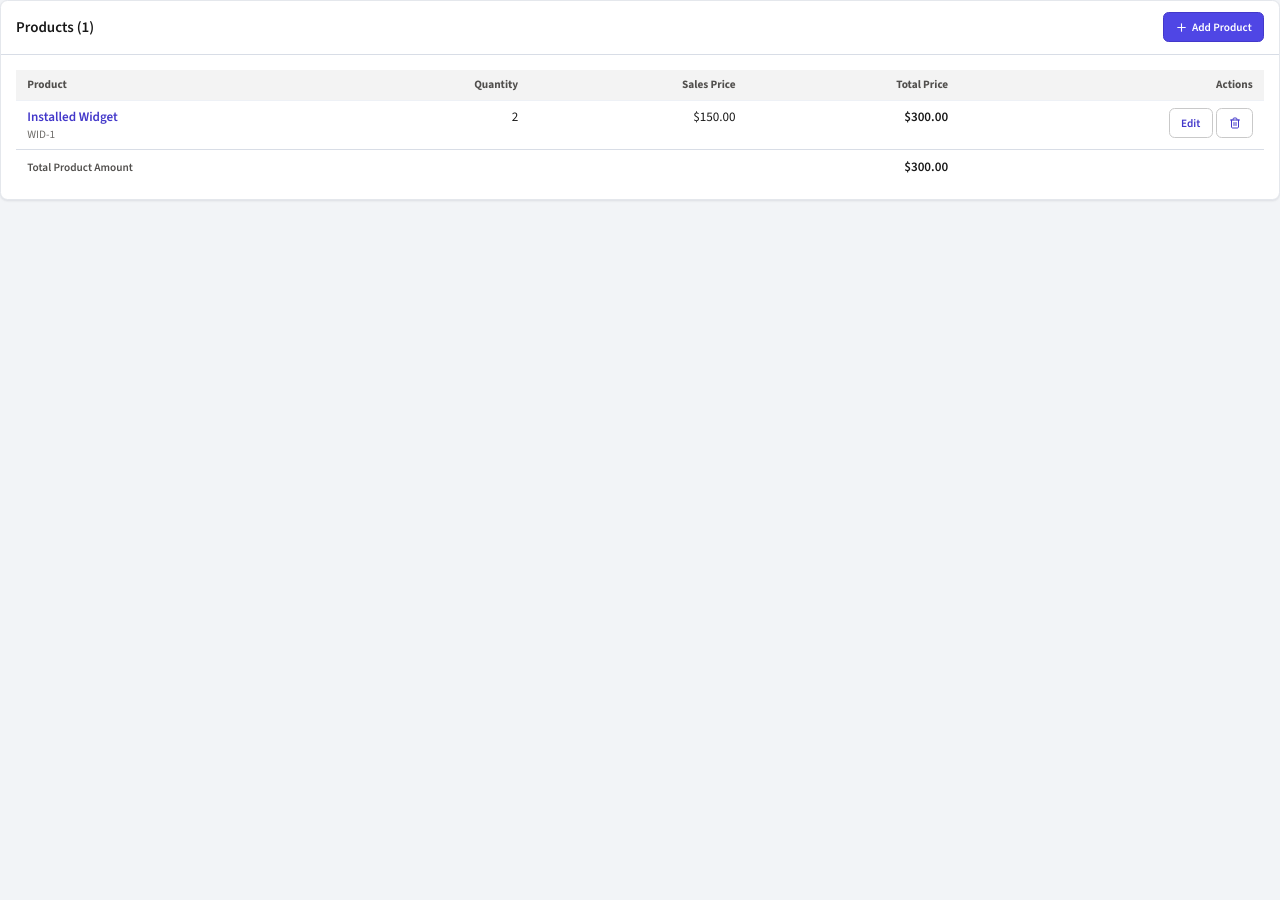
Product lines card › surfaces a server rejection without clearing the dialog
Click the button "Add Product".
click(1214, 27)  # box 1163,12 -> 1264,42
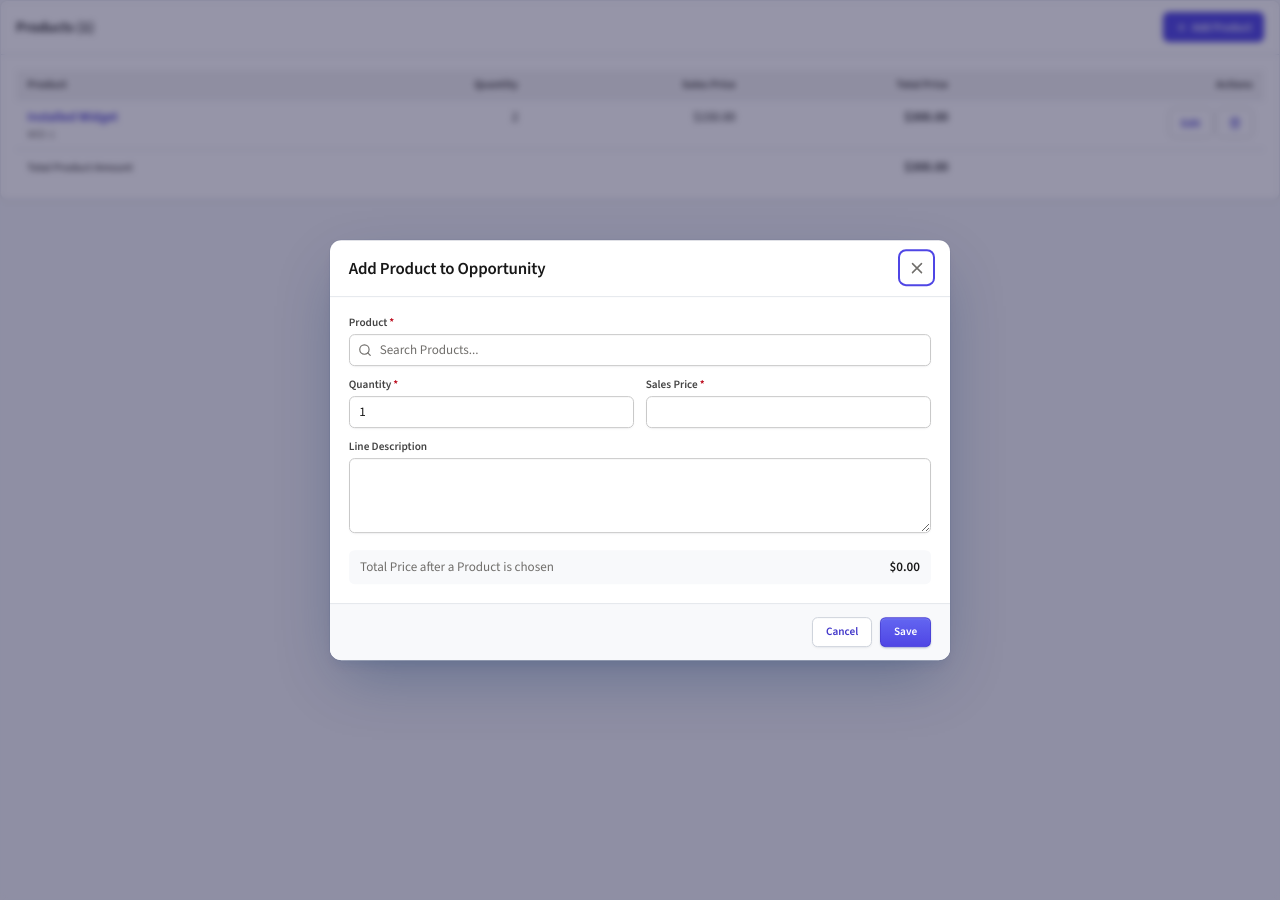
Click the dropdown labelled "Product*".
click(640, 350)  # box 349,334 -> 931,366
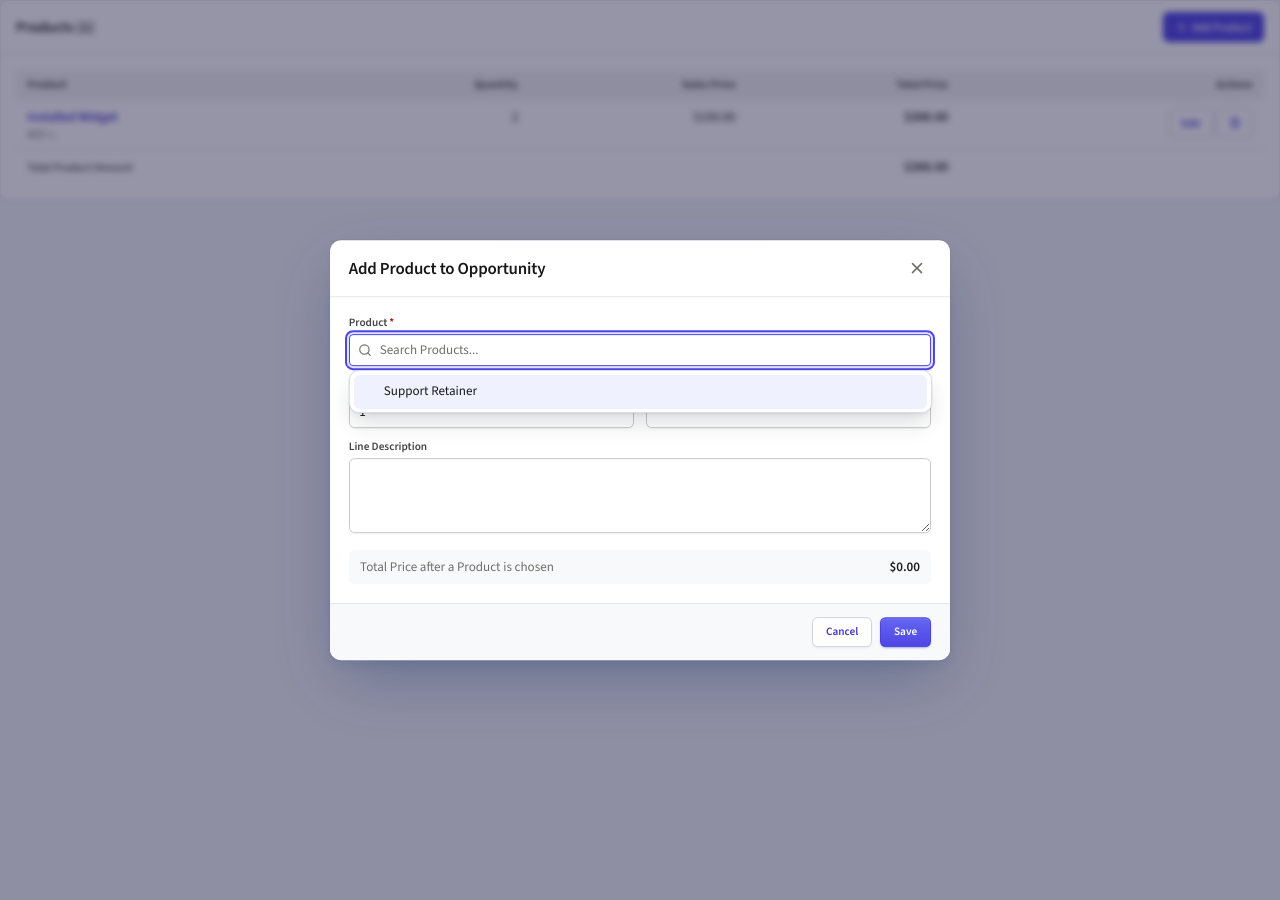
Click the option "Support Retainer".
click(430, 391)  # box 354,375 -> 927,409
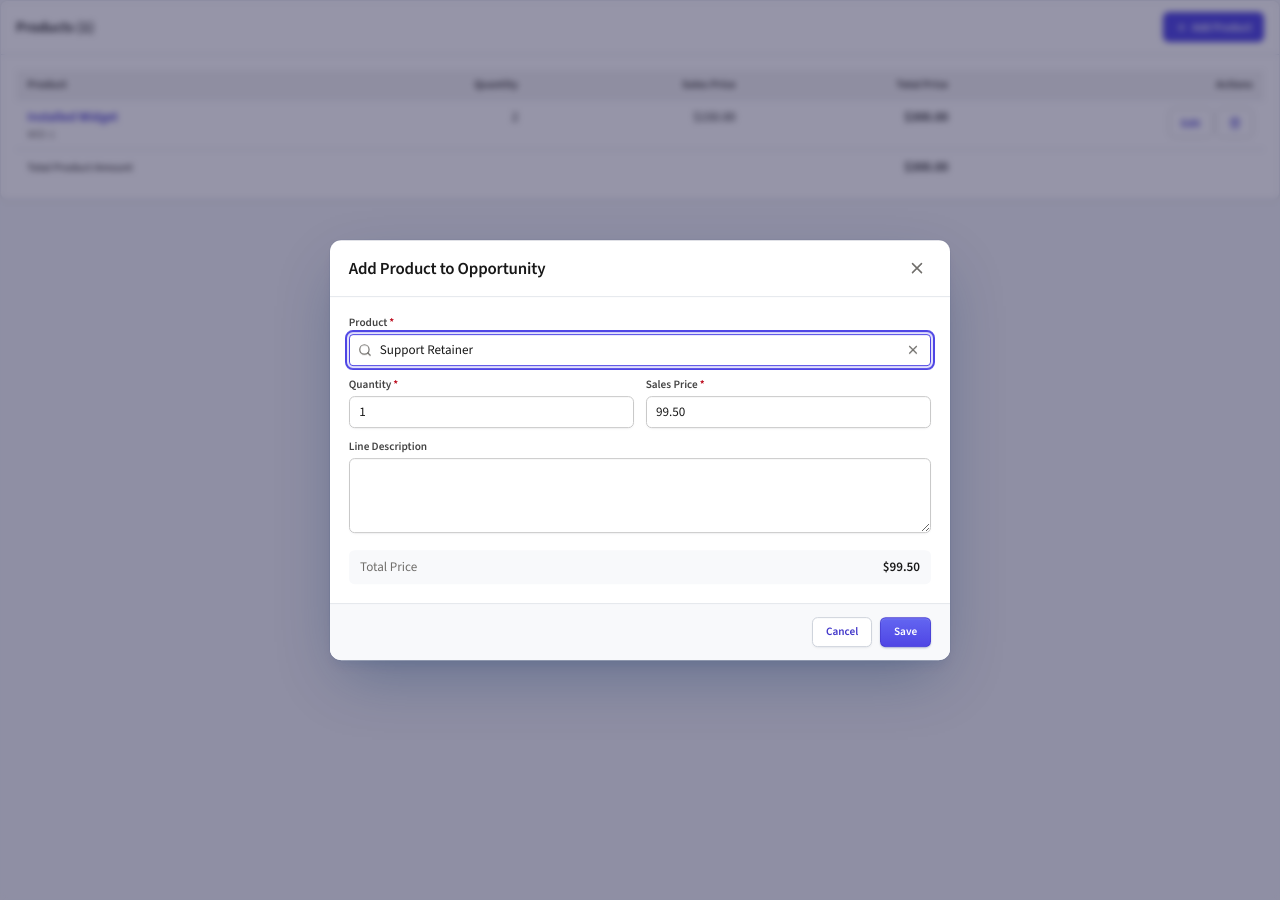
Click the button "Save".
click(906, 632)  # box 880,617 -> 931,647
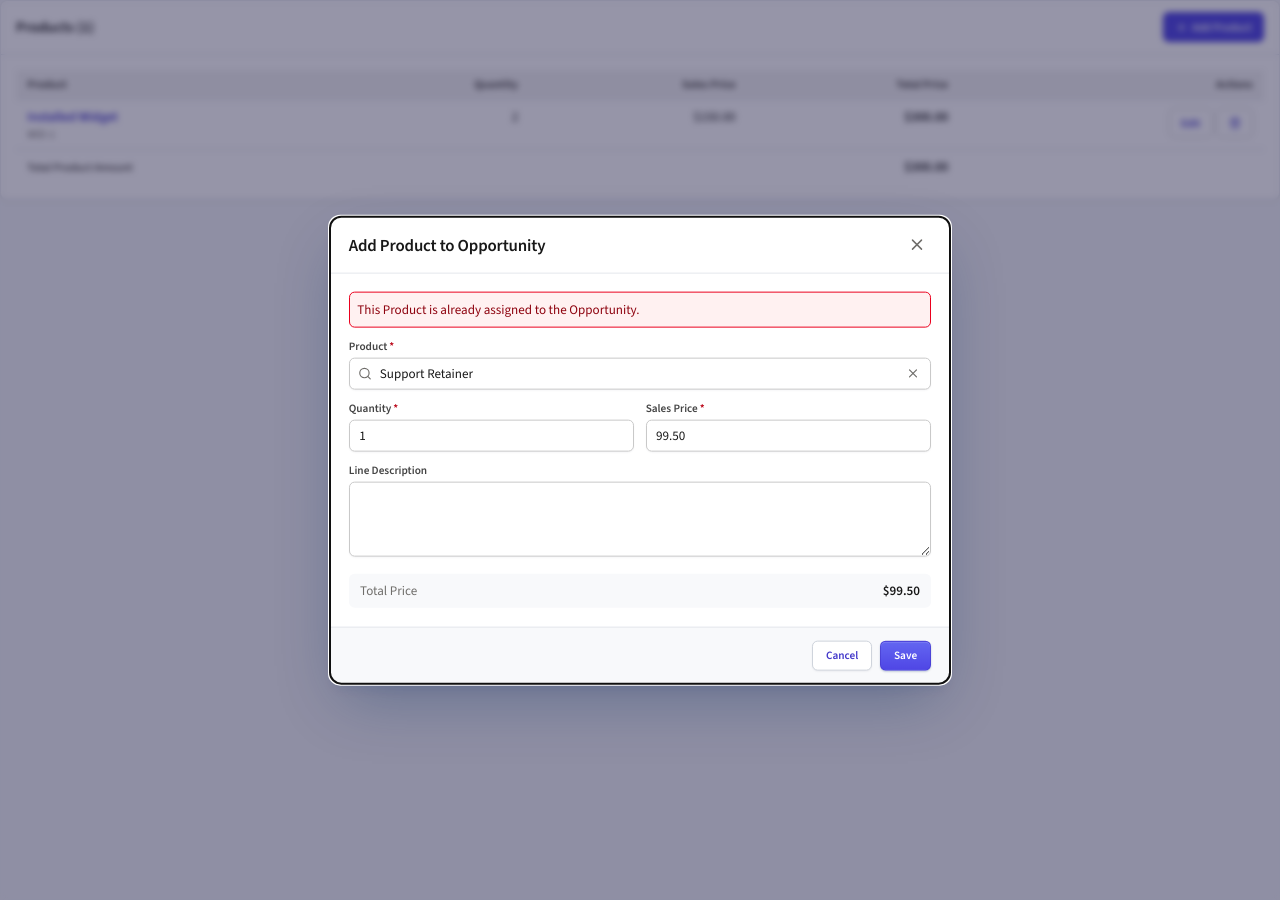
Expected: the text "This Product is already assigned to the Opportunity." is shown, 349,292 -> 931,328
